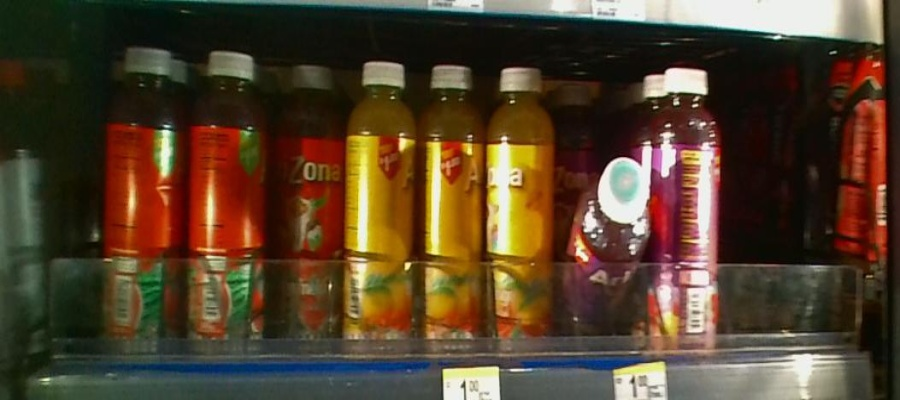bottle: (103, 26, 186, 365), (192, 37, 268, 367), (271, 43, 344, 368), (415, 50, 486, 356), (348, 49, 416, 368), (488, 52, 557, 361), (654, 63, 720, 369), (573, 149, 651, 358)
